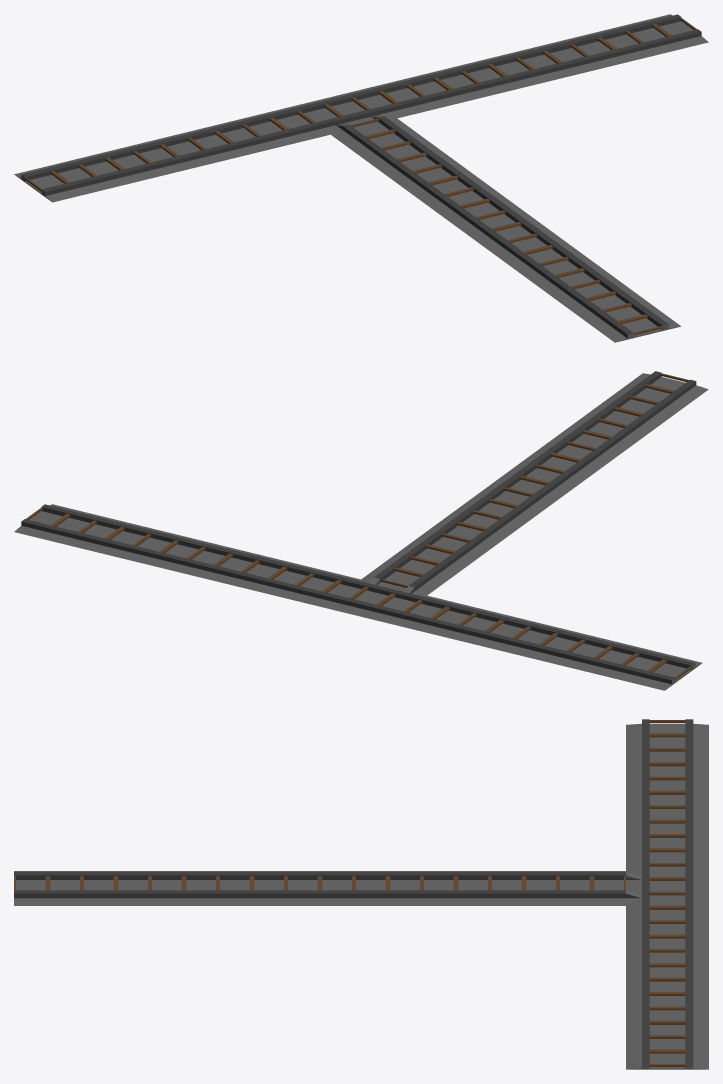
File: Rail.fbx
3 views of the same model, one above another, from view 1: azimuth 30°, elevation 25°; view 2: azimuth 150°, elevation 25°; view 3: azimuth 270°, elevation 25° (orthographic). The views are drawn at different scales.
Visible parts, largest first — view 1: Plane.001, Plane; view 2: Plane.001, Plane; view 3: Plane.001, Plane.
Part boxes in pixels (left/top/right/bottom): Plane.001: left=14, top=14, right=708, bottom=202; Plane: left=331, top=115, right=681, bottom=342; Plane.001: left=14, top=504, right=702, bottom=690; Plane: left=361, top=371, right=708, bottom=595; Plane.001: left=626, top=719, right=708, bottom=1069; Plane: left=14, top=871, right=641, bottom=905.
Size of the model in its own units: 807 by 6.13 by 687.
